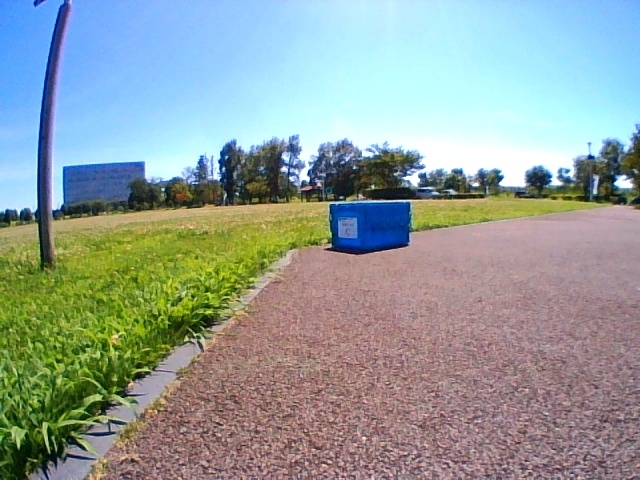blue_box: (329, 202, 410, 247)
tag_c: (337, 218, 357, 238)
